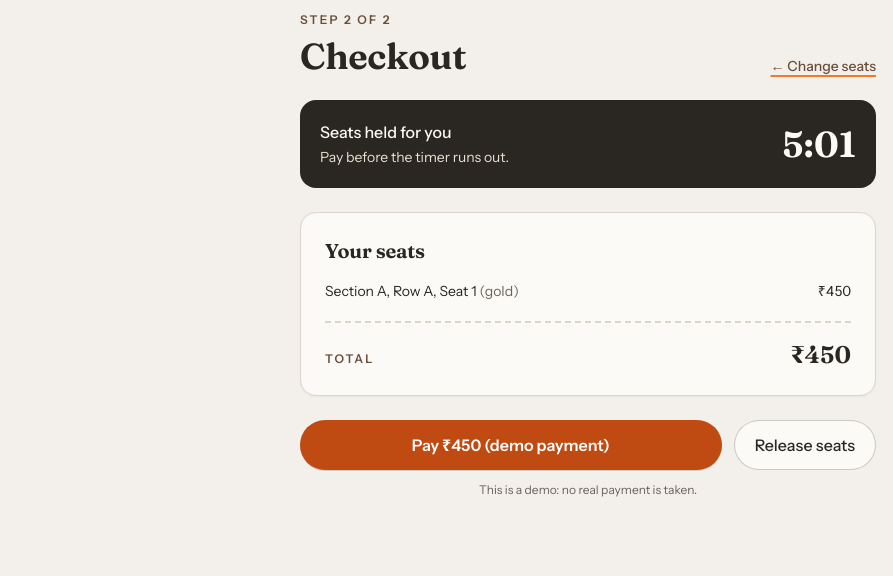
CheckoutPage › retries a failed payment with the SAME Idempotency-Key
Click the button "Pay ₹450 (demo payment)": [511, 445] box 300,420 -> 722,470
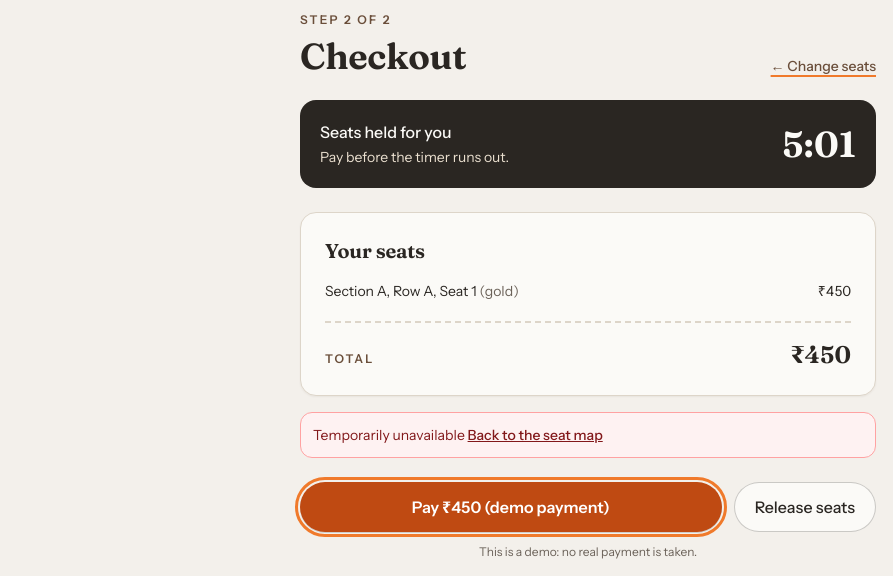
Now the text "Temporarily unavailable Back to the seat map" is shown, box 300,412 -> 876,458
Click the button "Pay ₹450 (demo payment)": [511, 507] box 300,482 -> 722,532
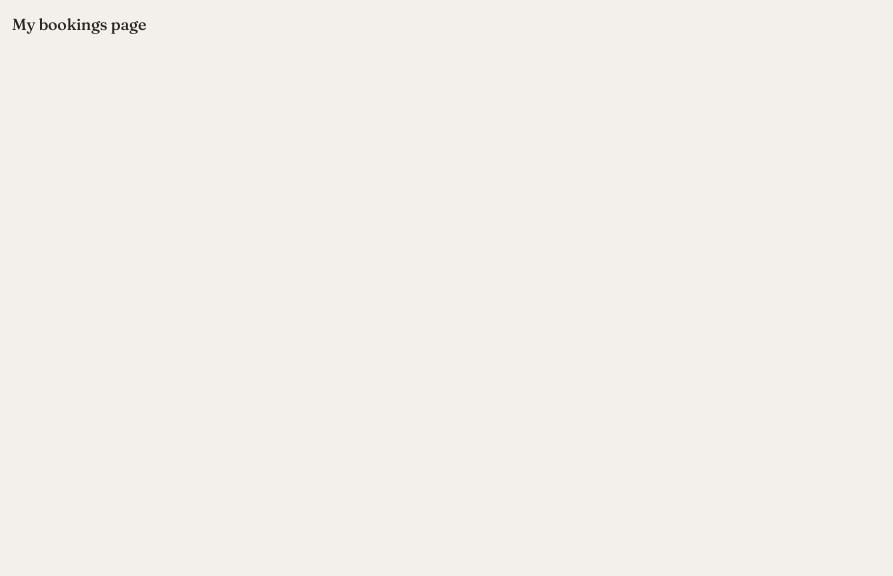
Now the heading "My bookings page" is shown, box 12,14 -> 146,34
